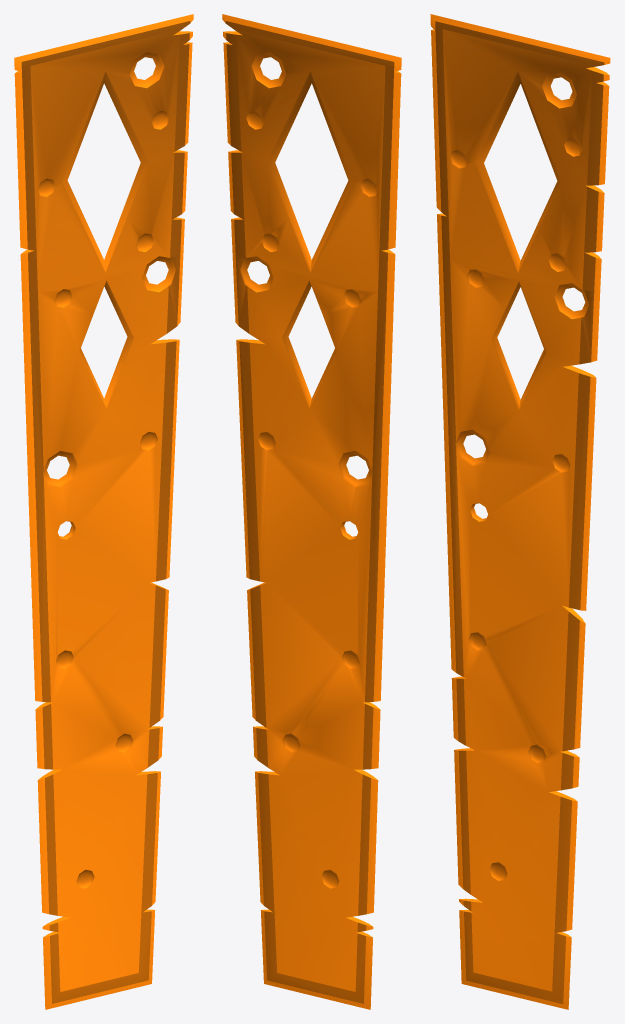
The model's file is bronze_blade_bubbles_041.glb.
The picture shows the model from 3 angles, left to right: view 1: azimuth 30°, elevation 25°; view 2: azimuth 150°, elevation 25°; view 3: azimuth 330°, elevation 25°; orthographic projection.
Visible parts, largest first — view 1: bronze_blade_bubbles.041; view 2: bronze_blade_bubbles.041; view 3: bronze_blade_bubbles.041.
Part boxes in pixels (left/top/right/bottom): bronze_blade_bubbles.041: left=14, top=14, right=193, bottom=1009; bronze_blade_bubbles.041: left=222, top=14, right=401, bottom=1009; bronze_blade_bubbles.041: left=430, top=14, right=610, bottom=1009.
Size of the model in its own units: 2.19 by 11.21 by 0.0882.
Materials: 1 (1 with a texture image).
